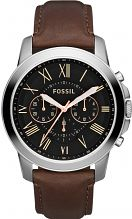watch: (2, 3, 124, 218)
